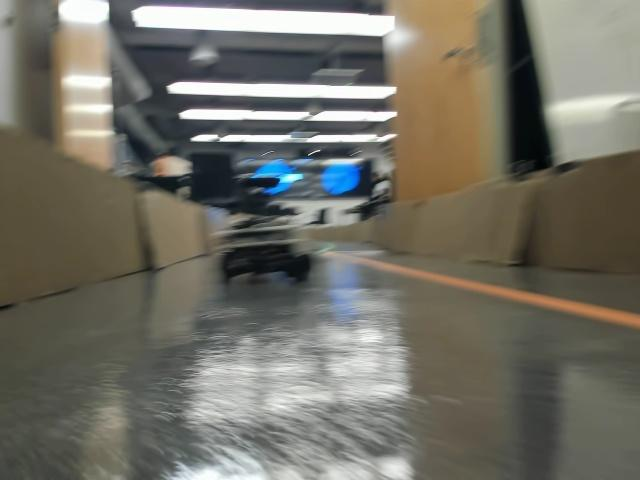Car: (214, 203, 310, 281)
